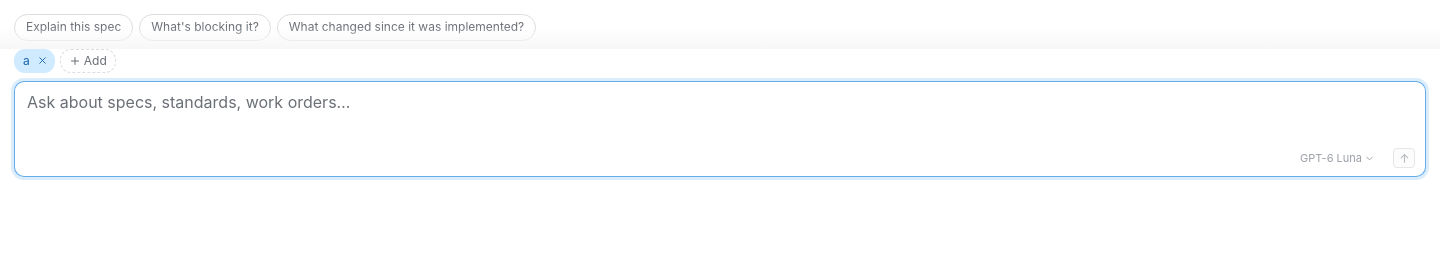
Ask composer › the stop button cancels the request
In the text box named "Question": (657, 122) [27,92,1286,152], type "hi"
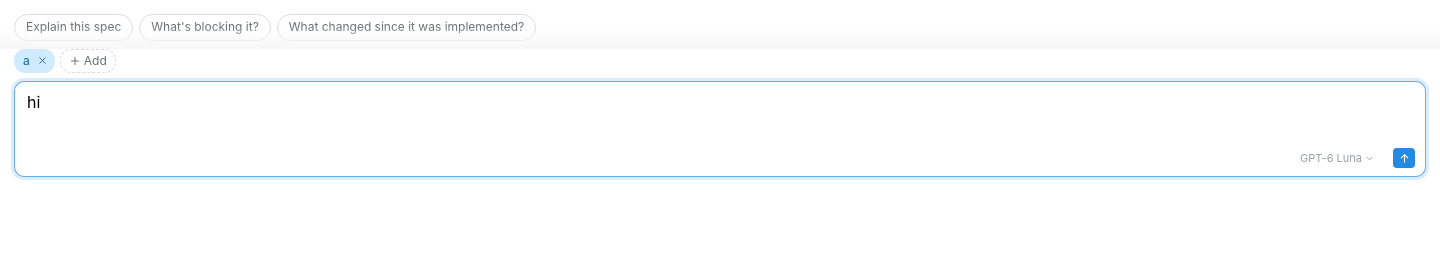
Press Enter in the text box named "Question", box [27,92,1286,152]
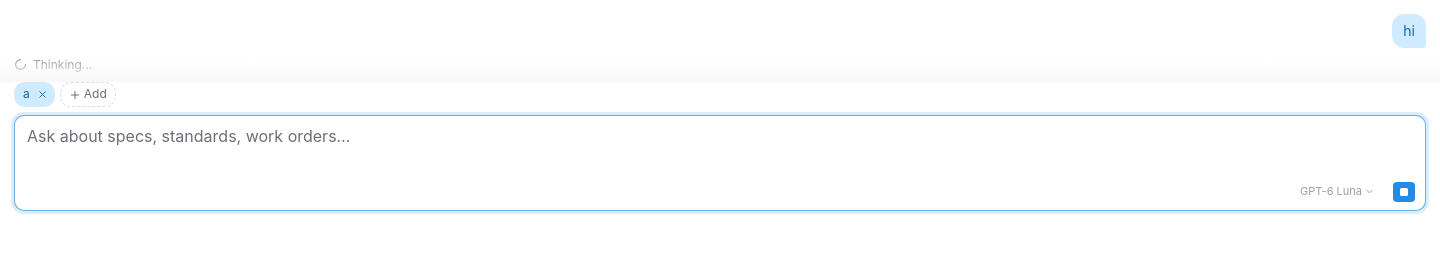
Click the button named "Stop": (1404, 192) [1393,182,1415,202]
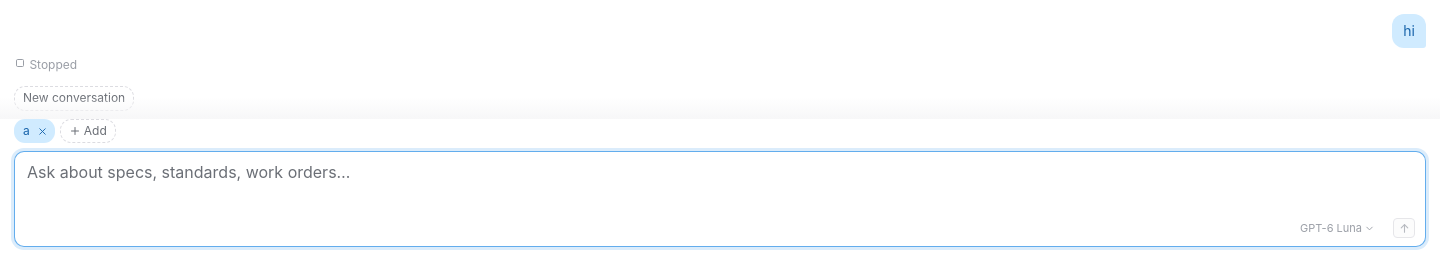
Expected: the text "Stopped" is shown, [14,57,77,72]
